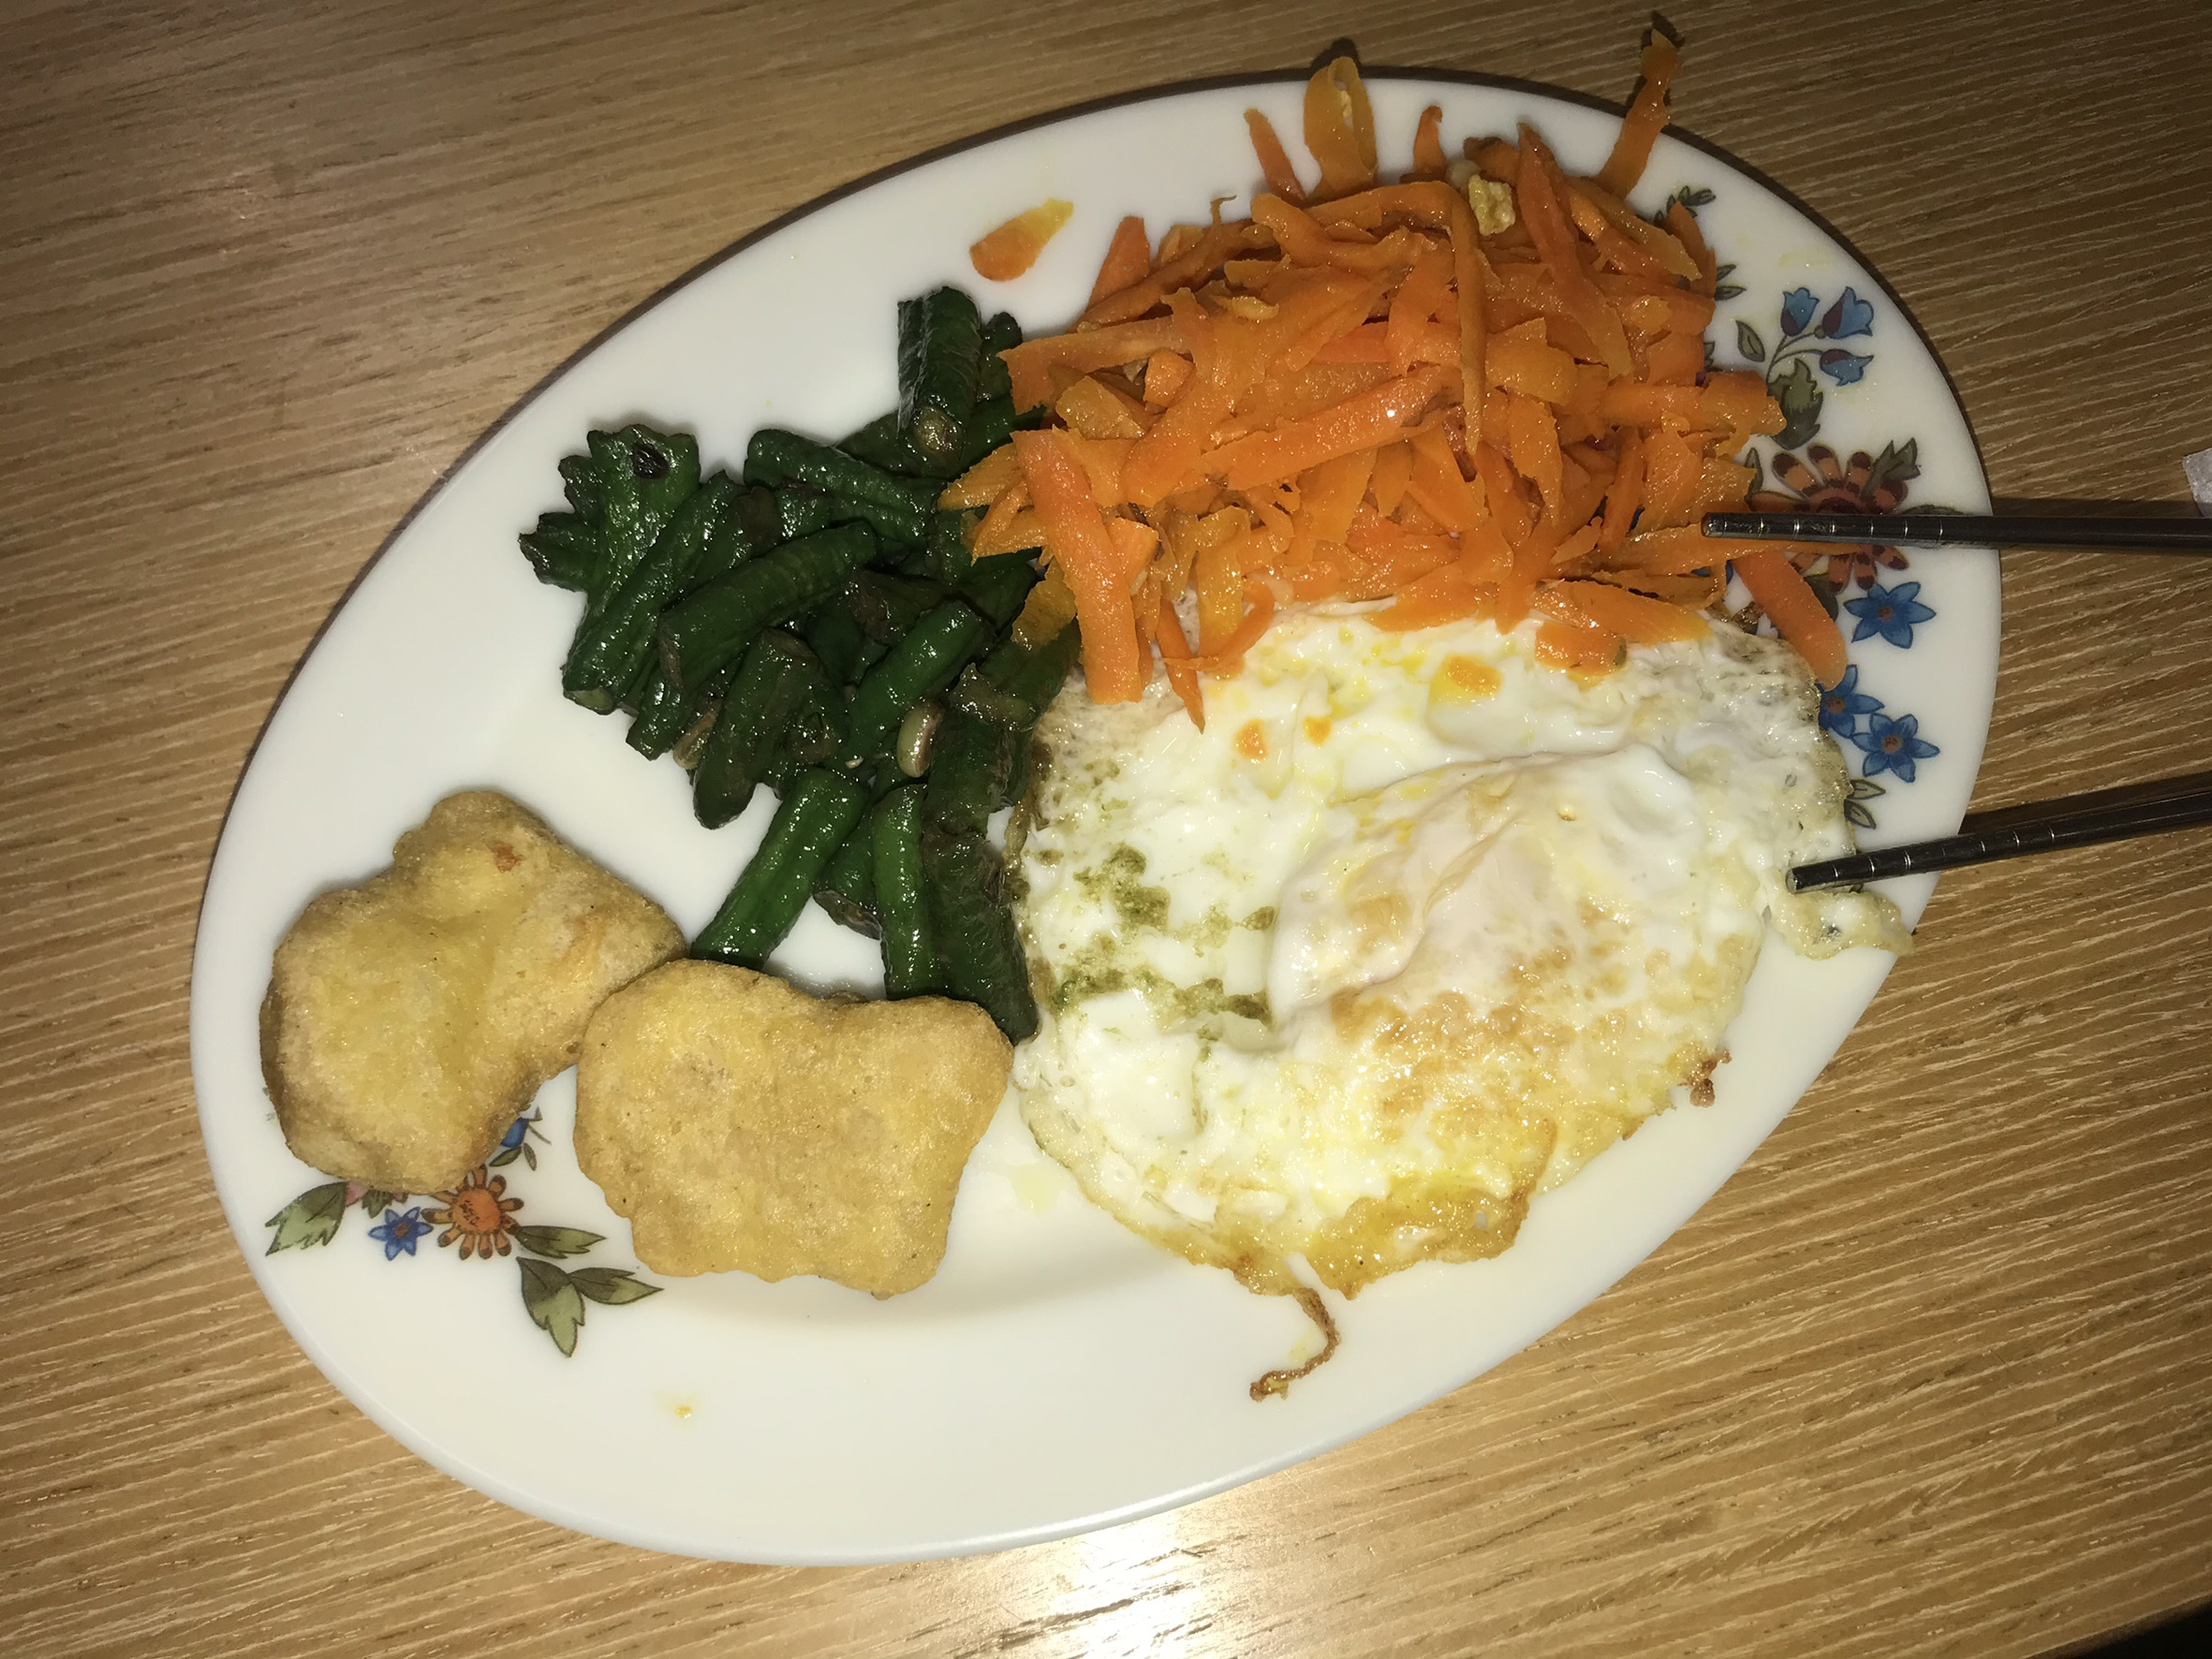carrot_eggs: (1027, 167, 1783, 598)
chicken_nuggets: (260, 789, 1011, 1302)
fried_eggs: (1008, 598, 1823, 1286)
